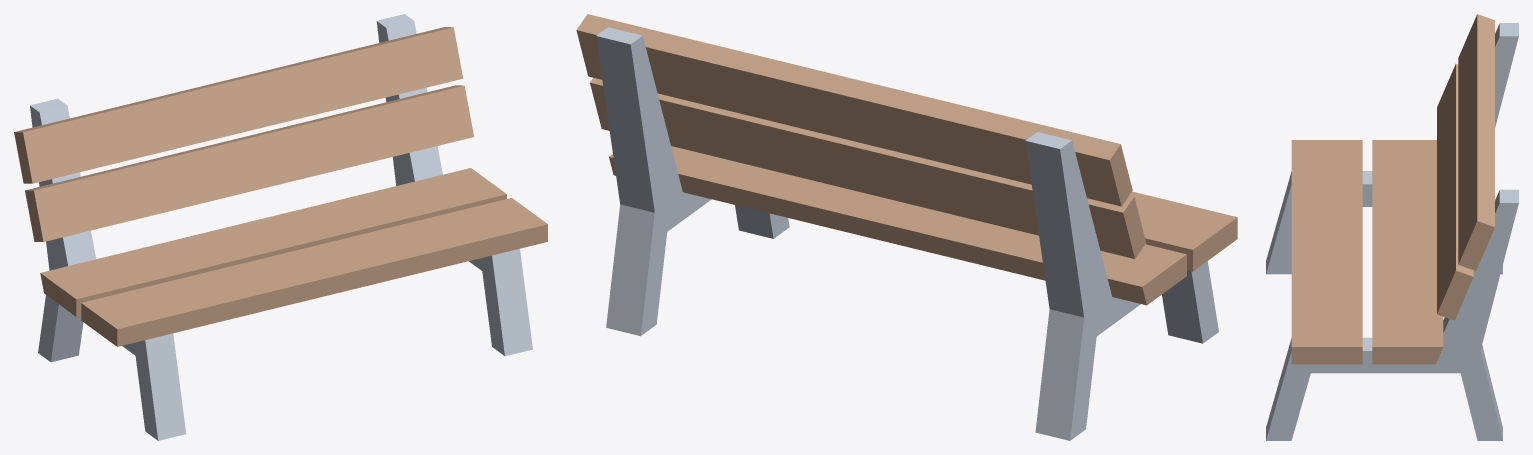
File: bench.glb
3 renders of one model, left to right at view 1: azimuth 30°, elevation 25°; view 2: azimuth 150°, elevation 25°; view 3: azimuth 270°, elevation 25°, orthographic. The views are drawn at different scales.
Parts seen in each view (by area): view 1: Group (×2), Mesh bench; view 2: Group (×2), Mesh bench; view 3: Group (×2), Mesh bench.
Part boxes in pixels (bbox=[...]): Group (×2): bbox=[14, 27, 547, 346]; Mesh bench: bbox=[30, 14, 532, 440]; Group (×2): bbox=[576, 14, 1237, 305]; Mesh bench: bbox=[596, 27, 1218, 440]; Group (×2): bbox=[1291, 14, 1494, 364]; Mesh bench: bbox=[1266, 23, 1518, 440].
Bounding box in the file's own units: 0.606 × 0.3248 × 0.3129.
